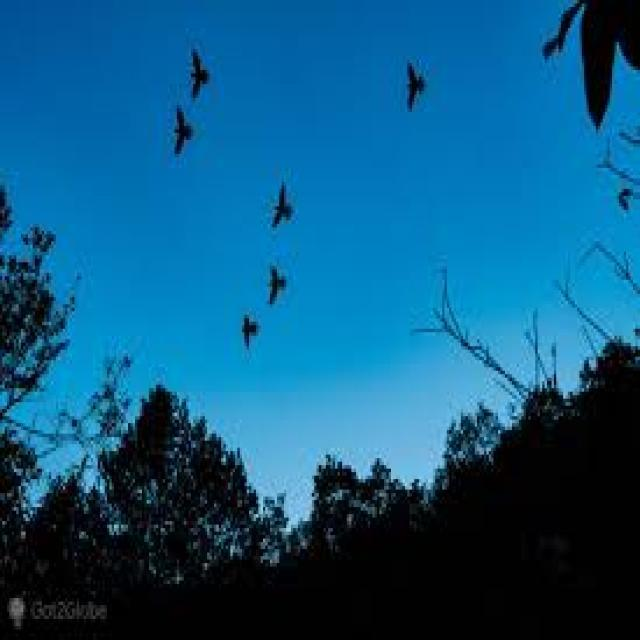bird: (176, 35, 238, 105), (400, 47, 449, 135), (256, 262, 310, 332), (152, 94, 206, 158), (268, 166, 305, 254), (236, 310, 274, 372)
